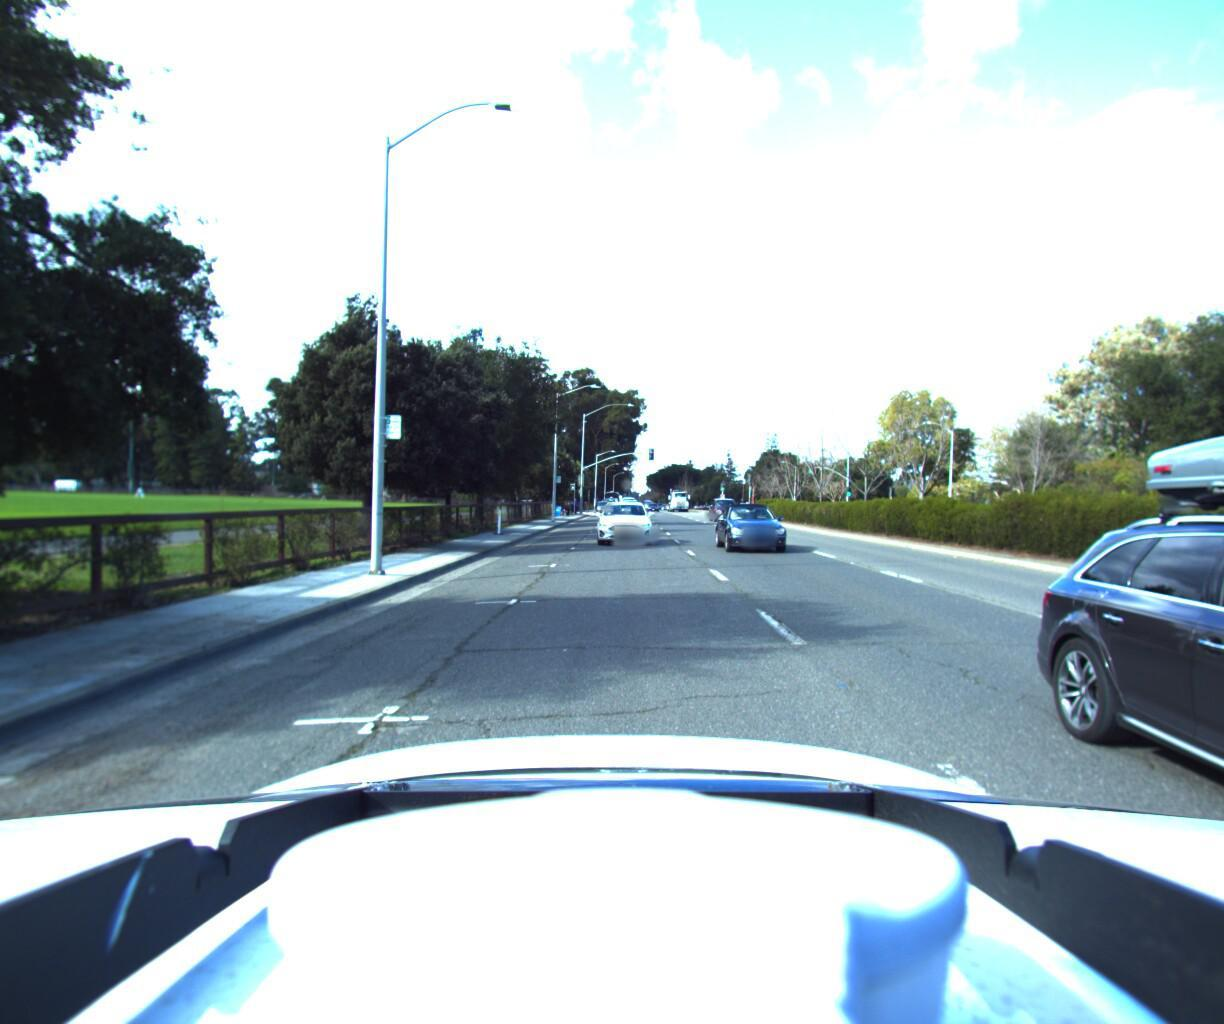car: (1123, 0, 1224, 1024), (717, 498, 804, 556), (594, 496, 652, 545), (708, 498, 744, 521)
